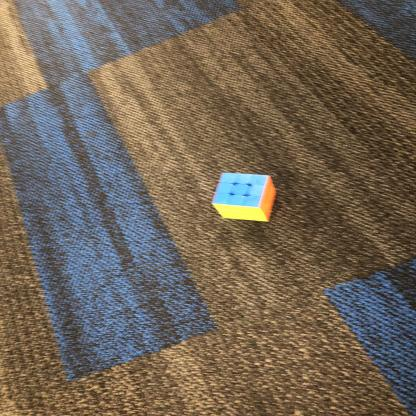SolvedCube: (215, 169, 276, 223)
